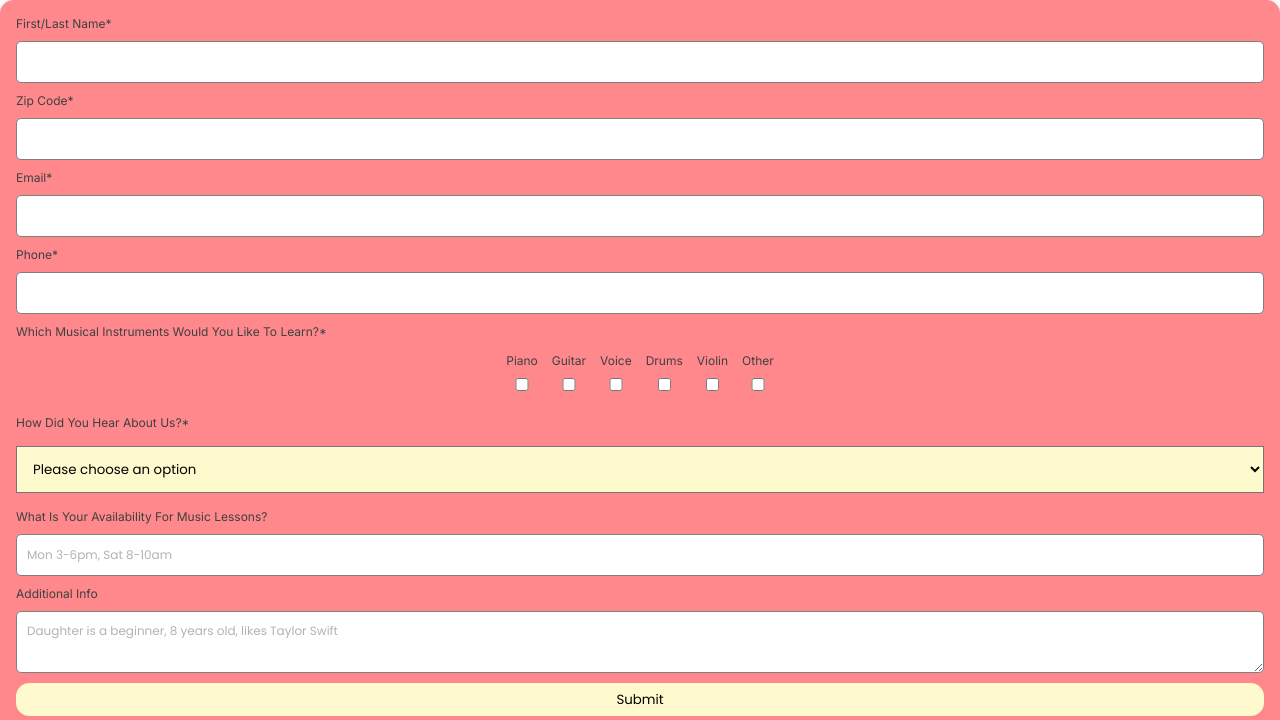
it: Form Input › validiation errors › renders the zipCode validation error for not having ENOUGH digits
Type "8" into the number field with test id "zipCode" at (640, 139), box [16,118,1264,160]
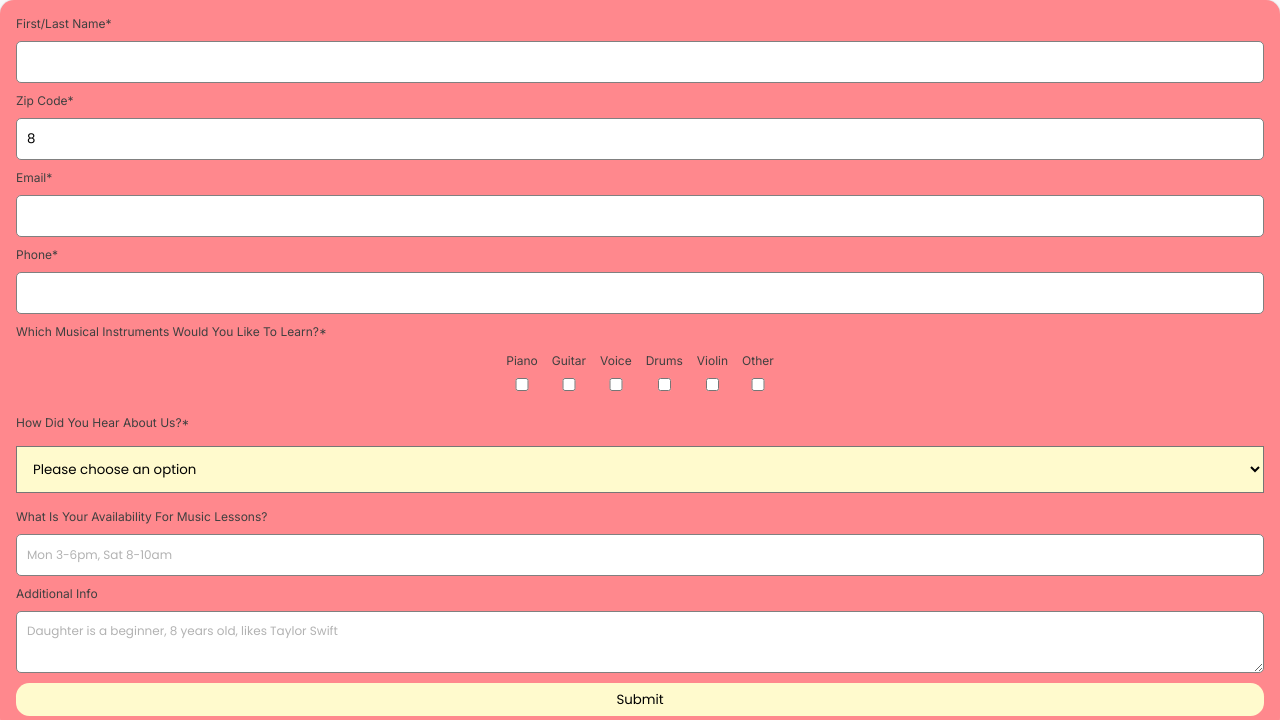
Click the button at (640, 700), box [16,683,1264,716]
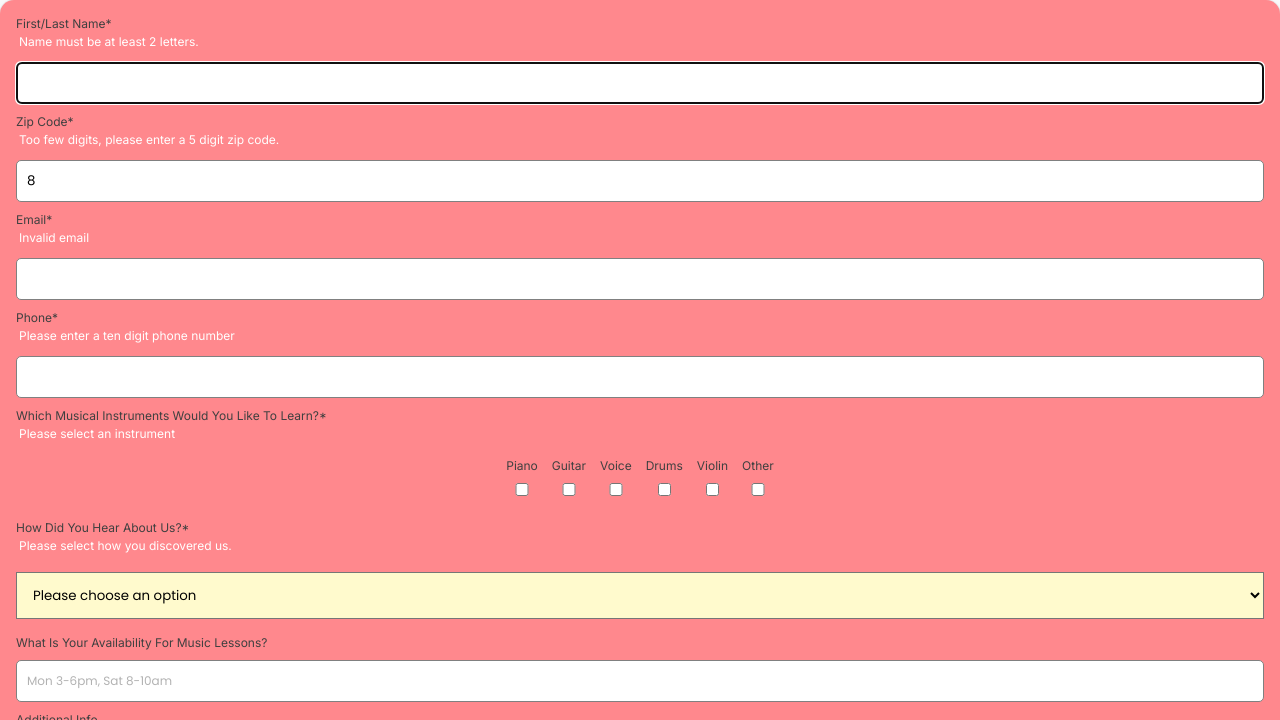
Expected: the text with test id "zipError" reads "Too few digits, please enter a 5 digit zip code.", [19,132,279,147]
